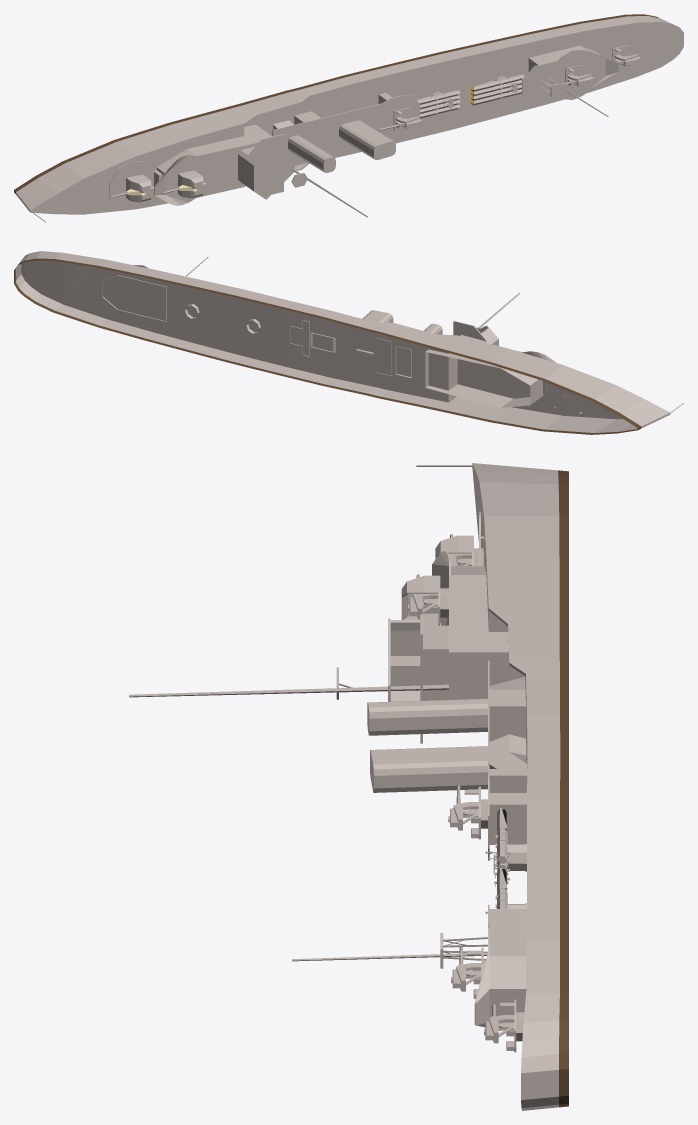
File: Farragut.fbx
3 renders of one model, top to bottom at view 1: azimuth 30°, elevation 25°; view 2: azimuth 150°, elevation 25°; view 3: azimuth 270°, elevation 25°, orthographic. The views are drawn at different scales.
Parts seen in each view (by area): view 1: hull, torpedo launcher.2, torpedo launcher.1, main battery.1, main battery.2, main battery.3, main battery.4, main battery.5; view 2: hull; view 3: hull, main battery.2, torpedo launcher.1, main battery.3, main battery.5, main battery.1, main battery.4.
Part boxes in pixels (left/top/right/bottom): hull: left=14, top=14, right=683, bottom=222; torpedo launcher.2: left=471, top=74, right=524, bottom=105; torpedo launcher.1: left=417, top=90, right=461, bottom=118; main battery.1: left=110, top=174, right=153, bottom=202; main battery.2: left=162, top=170, right=206, bottom=198; main battery.3: left=378, top=107, right=421, bottom=131; main battery.4: left=549, top=65, right=593, bottom=88; main battery.5: left=612, top=45, right=640, bottom=67; hull: left=14, top=251, right=683, bottom=434; hull: left=129, top=463, right=568, bottom=1110; main battery.2: left=401, top=574, right=448, bottom=625; torpedo launcher.1: left=485, top=808, right=526, bottom=886; main battery.3: left=448, top=785, right=487, bottom=839; main battery.5: left=484, top=999, right=524, bottom=1052; main battery.1: left=435, top=534, right=483, bottom=566; main battery.4: left=451, top=947, right=485, bottom=998.
Bounding box in the file's own units: 10366 × 1044 × 3100.
